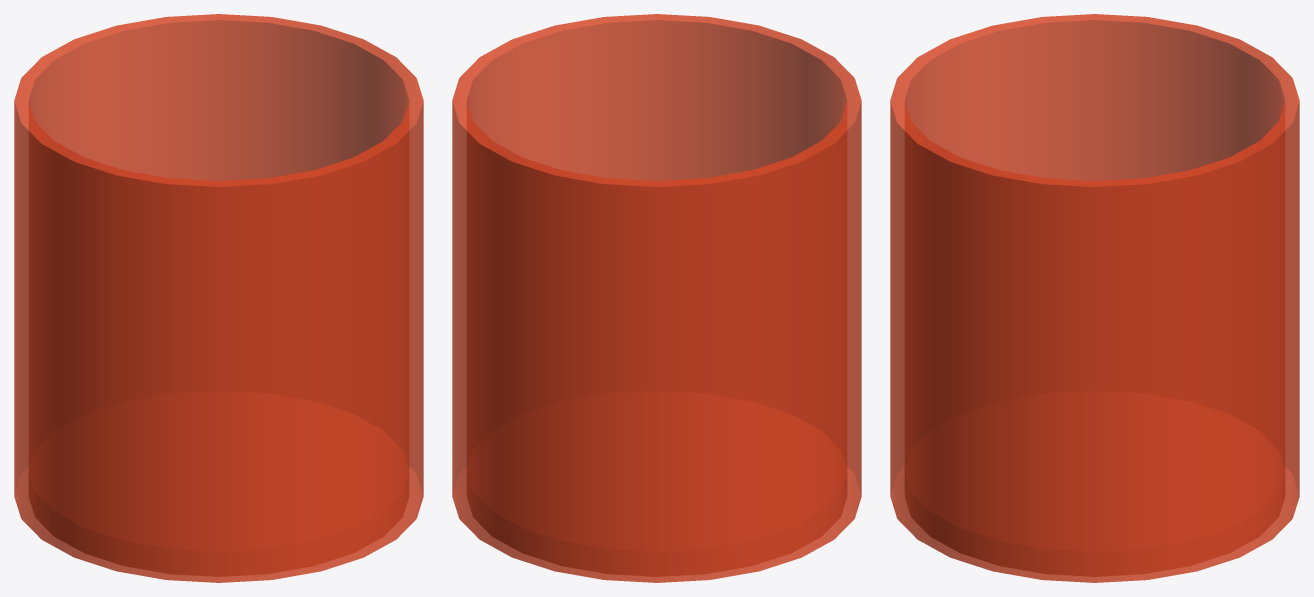
The model's file is orange.dae.
3 renders of one model, left to right at view 1: azimuth 30°, elevation 25°; view 2: azimuth 150°, elevation 25°; view 3: azimuth 270°, elevation 25°, orthographic.
Parts seen in each view (by area): view 1: SketchUp (×3); view 2: SketchUp (×3); view 3: SketchUp (×3).
Boxes of the visible parts, <box> form: SketchUp (×3): <box>14,14,423,582</box>; SketchUp (×3): <box>452,14,861,582</box>; SketchUp (×3): <box>890,14,1299,582</box>.
Size of the model in its own units: 2.95 by 2.95 by 3.15.
Materials: 1 (1 with a texture image).
